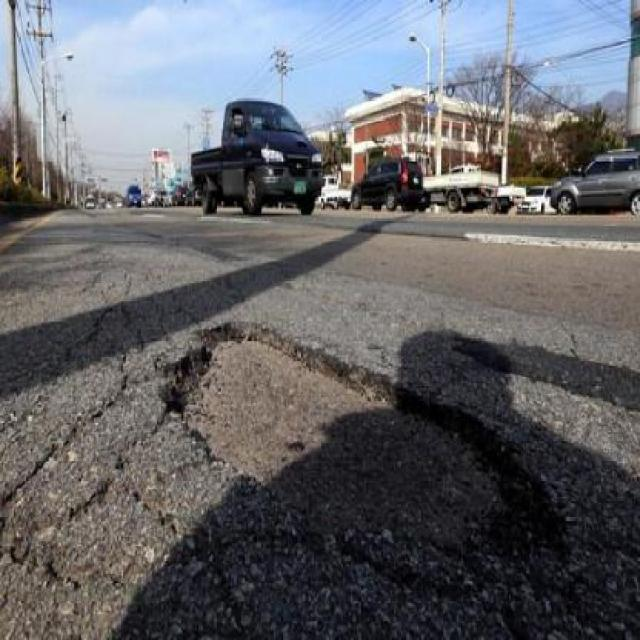Pothole: (150, 309, 575, 600)
